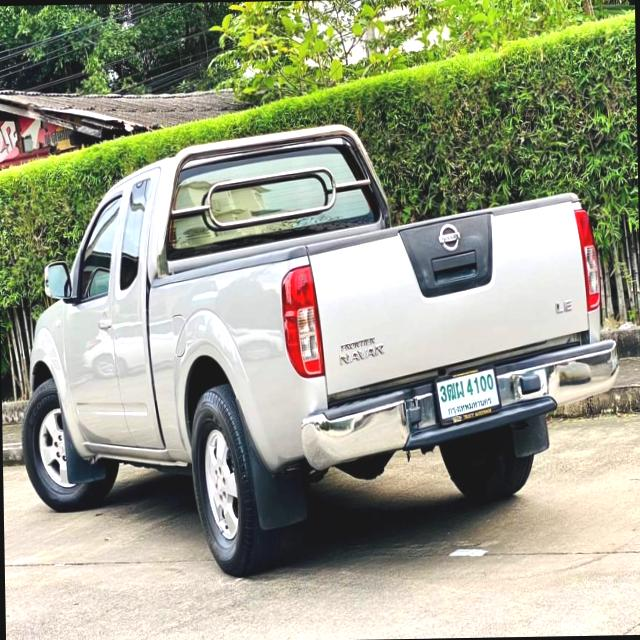license_plate: (428, 363, 505, 430)
